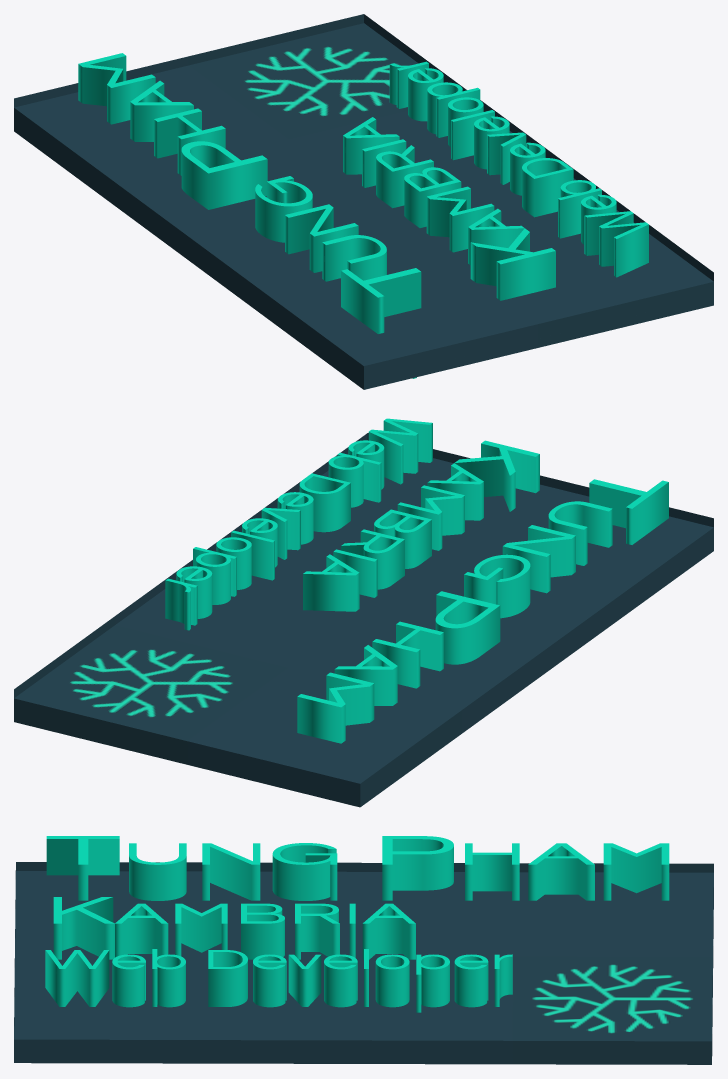
The model's file is tung.glb.
3 views of the same model, one above another, from view 1: azimuth 30°, elevation 25°; view 2: azimuth 150°, elevation 25°; view 3: azimuth 270°, elevation 25° (orthographic).
Parts seen in each view (by area): view 1: Plane, Text, Text.002, Text.001; view 2: Plane, Text, Text.002, Text.001; view 3: Plane, Text, Text.002, Text.001.
Boxes of the visible parts, x1,y1,x2,y2 form: Plane: (14,14,713,389); Text: (78,53,421,333); Text.002: (389,61,648,277); Text.001: (343,117,555,300); Plane: (14,433,713,807); Text: (297,479,668,743); Text.002: (165,418,432,630); Text.001: (303,440,539,611); Plane: (14,862,713,1064); Text: (46,836,669,900); Text.002: (45,949,512,1012); Text.001: (53,897,415,959).
Size of the model in its own units: 4.03 by 1.17 by 7.02.
7 materials, 1 textured.
